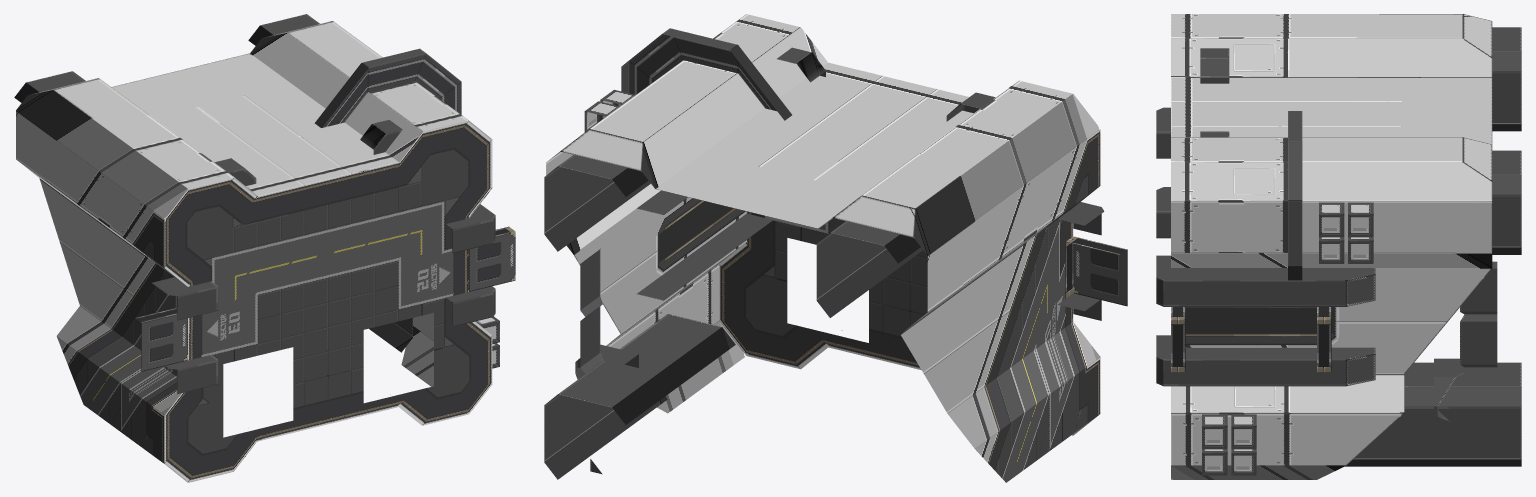
File: Block1.fbx
The picture shows the model from 3 angles, left to right: view 1: azimuth 30°, elevation 25°; view 2: azimuth 150°, elevation 25°; view 3: azimuth 270°, elevation 25°; orthographic projection. The views are drawn at different scales.
Parts seen in each view (by area): view 1: Elevator2.002, Elevator2, Crate2; view 2: Elevator2.002, Crate1; view 3: Elevator2.002, Crate2, Crate1, Elevator2.
Part boxes in pixels (x1=…): Elevator2.002: x1=14, y1=14, x2=495, y2=482; Elevator2: x1=469, y1=226, x2=515, y2=291; Crate2: x1=475, y1=316, x2=499, y2=368; Elevator2.002: x1=544, y1=14, x2=1127, y2=482; Crate1: x1=584, y1=89, x2=635, y2=131; Elevator2.002: x1=1156, y1=14, x2=1521, y2=479; Crate2: x1=1202, y1=414, x2=1256, y2=475; Crate1: x1=1319, y1=202, x2=1373, y2=263; Elevator2: x1=1171, y1=307, x2=1185, y2=372.
Bounding box in the file's own units: 16 × 13 × 12.5.
